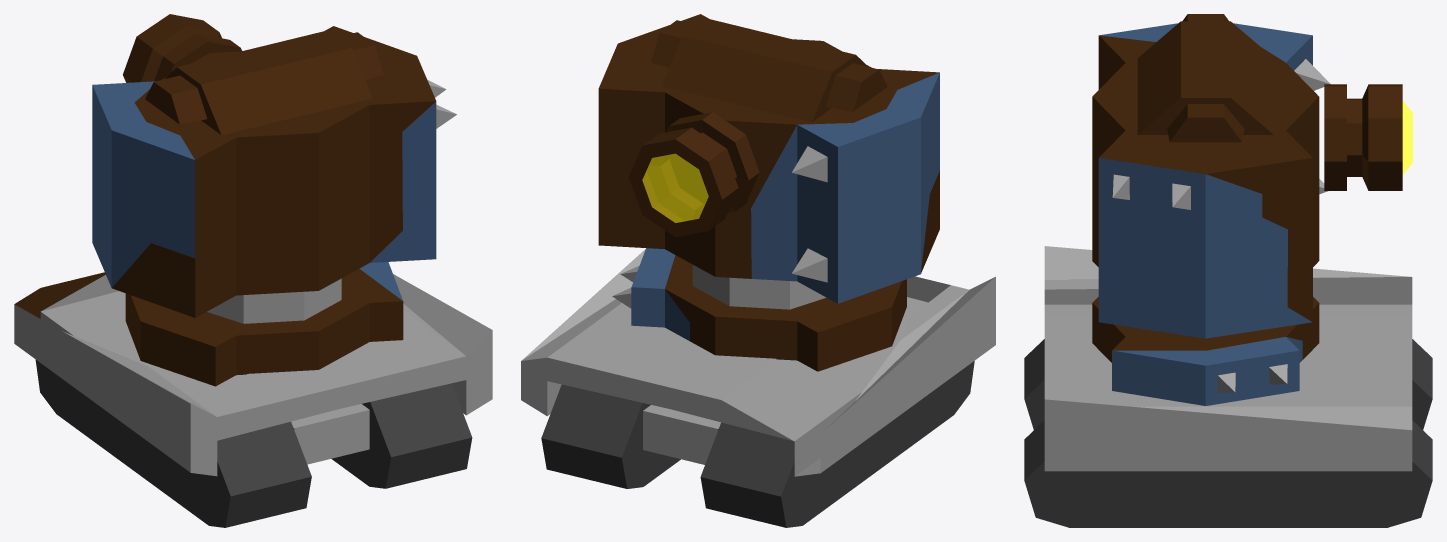
File: PlayerRev3.glb
3 views of the same model, side by side, from view 1: azimuth 30°, elevation 25°; view 2: azimuth 150°, elevation 25°; view 3: azimuth 270°, elevation 25° (orthographic). The views are drawn at different scales.
Parts seen in each view (by area): view 1: Body, Legs, Feet, RocketStand, Head; view 2: Body, Legs, Feet, RocketStand, Head; view 3: Body, Legs, Feet, RocketStand, Head.
Part boxes in pixels (x1=…): Body: x1=92, y1=26, x2=456, y2=386; Legs: x1=14, y1=272, x2=492, y2=476; Feet: x1=35, y1=360, x2=472, y2=527; RocketStand: x1=145, y1=30, x2=383, y2=135; Head: x1=123, y1=14, x2=241, y2=82; Body: x1=598, y1=14, x2=939, y2=371; Legs: x1=521, y1=249, x2=995, y2=476; Feet: x1=541, y1=361, x2=974, y2=527; RocketStand: x1=651, y1=18, x2=887, y2=122; Head: x1=629, y1=112, x2=759, y2=237; Body: x1=1092, y1=23, x2=1330, y2=405; Legs: x1=1044, y1=246, x2=1412, y2=471; Feet: x1=1024, y1=339, x2=1432, y2=527; RocketStand: x1=1137, y1=14, x2=1273, y2=142; Head: x1=1324, y1=84, x2=1412, y2=190.
Bounding box in the file's own units: 1.69 × 1.98 × 1.8.
